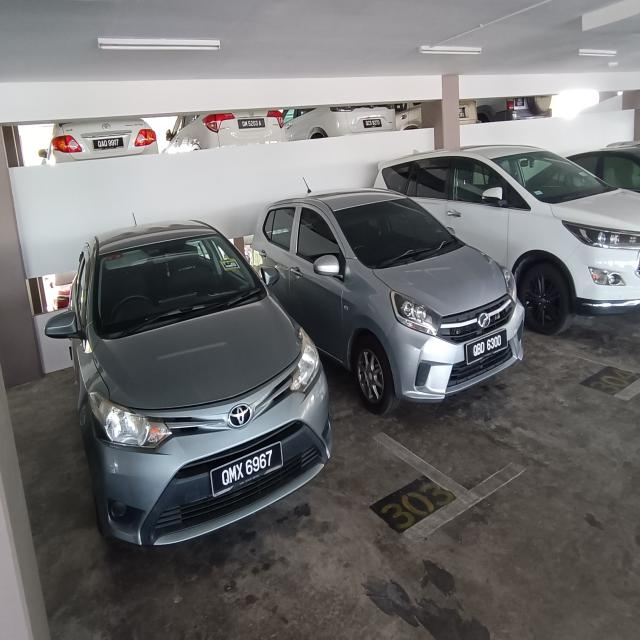PeroduaAxia: (258, 185, 528, 433)
ToyotaVios: (45, 211, 359, 567)
